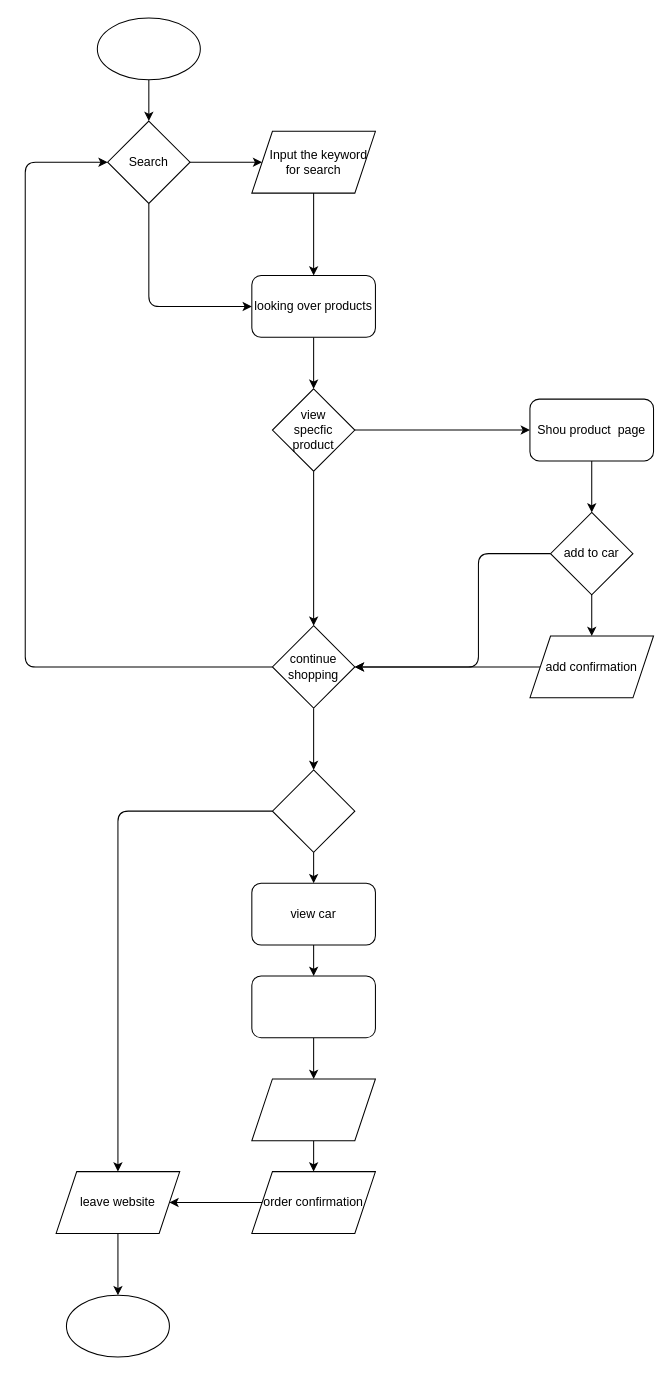
This 672x1375 diagram has some shape labels left out. Here are the shapes that lost their labels. From the top down, the box of each, then its label:
(96, 17, 200, 80): Start
(271, 769, 355, 852): check out
(251, 975, 375, 1038): view payment
(251, 1078, 375, 1141): input payment information
(65, 1294, 169, 1357): end
